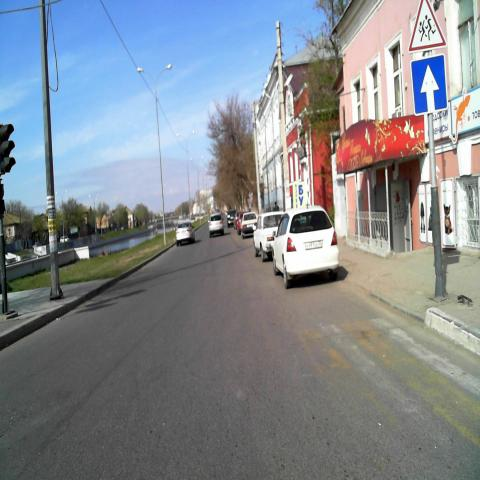1_23: (409, 0, 446, 52)
5_5: (412, 54, 448, 114)
